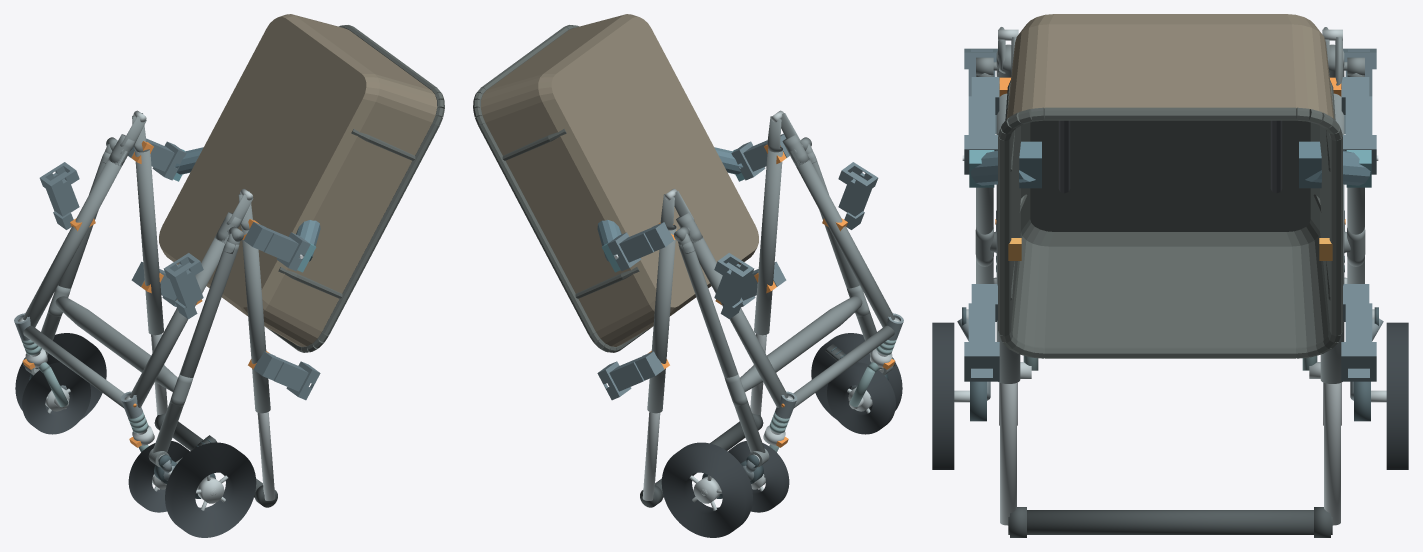
The model's file is S13_w550_state3_wheel_S.glb.
3 views of the same model, side by side, from view 1: azimuth 30°, elevation 25°; view 2: azimuth 150°, elevation 25°; view 3: azimuth 270°, elevation 25° (orthographic). The views are drawn at different scales.
Visible parts, largest first — view 1: S13_Cabin, RL_tire.002, FR_tire.002, main_lower_1.003, main_upper_1.003, V46_rear_leg_-1.003, main_upper_-1.003, V46_rearbar.003, main_lower_-1.003, RR_tire.002, FL_tire.002, Universal_Cabin_Receiver_H_-1 (+11 smaller); view 2: S13_Cabin, RR_tire.002, FL_tire.002, main_lower_-1.003, main_upper_-1.003, V46_rear_leg_1.003, main_upper_1.003, V46_rearbar.003, main_lower_1.003, FR_tire.002, RL_tire.002, Universal_Cabin_Receiver_H_1 (+11 smaller); view 3: S13_Cabin, round_handle.002, S13_Cabin_Mount_M, RL_tire.002, RR_tire.002, Universal_Cabin_Receiver_H_1, Universal_Cabin_Receiver_H_-1, Universal_Cabin_Receiver_M_-1, Universal_Cabin_Receiver_M_1, handle_slider_1.002, handle_slider_-1.002, main_upper_1.003 (+9 smaller).
Part boxes in pixels (<box>): S13_Cabin: <box>159,14,444,352</box>; RL_tire.002: <box>165,442,256,537</box>; FR_tire.002: <box>22,362,90,434</box>; main_lower_1.003: <box>23,151,127,327</box>; main_upper_1.003: <box>134,150,163,335</box>; V46_rear_leg_-1.003: <box>152,241,239,452</box>; main_upper_-1.003: <box>241,228,270,413</box>; V46_rearbar.003: <box>55,296,177,391</box>; main_lower_-1.003: <box>129,235,228,407</box>; RR_tire.002: <box>15,333,106,419</box>; FL_tire.002: <box>128,441,189,512</box>; Universal_Cabin_Receiver_H_-1: <box>253,351,320,400</box>; S13_Cabin: <box>473,14,758,352</box>; RR_tire.002: <box>661,442,752,537</box>; FL_tire.002: <box>827,362,895,434</box>; main_lower_-1.003: <box>790,151,894,327</box>; main_upper_-1.003: <box>754,147,783,335</box>; V46_rear_leg_1.003: <box>678,241,765,452</box>; main_upper_1.003: <box>647,225,676,413</box>; V46_rearbar.003: <box>740,296,862,391</box>; main_lower_1.003: <box>689,235,788,407</box>; FR_tire.002: <box>728,441,789,512</box>; RL_tire.002: <box>811,333,902,419</box>; Universal_Cabin_Receiver_H_1: <box>597,351,664,400</box>; S13_Cabin: <box>998,14,1342,358</box>; round_handle.002: <box>1008,510,1332,534</box>; S13_Cabin_Mount_M: <box>962,141,1378,188</box>; RL_tire.002: <box>932,322,954,469</box>; RR_tire.002: <box>1386,322,1408,469</box>; Universal_Cabin_Receiver_H_1: <box>1341,284,1376,381</box>; Universal_Cabin_Receiver_H_-1: <box>964,284,999,381</box>; Universal_Cabin_Receiver_M_-1: <box>964,77,999,174</box>; Universal_Cabin_Receiver_M_1: <box>1341,77,1376,174</box>; handle_slider_1.002: <box>1324,383,1340,525</box>; handle_slider_-1.002: <box>1000,383,1016,525</box>; main_upper_1.003: <box>1320,89,1344,383</box>.
Bounding box in the file's own units: 0.7829 × 0.9022 × 0.6471.
